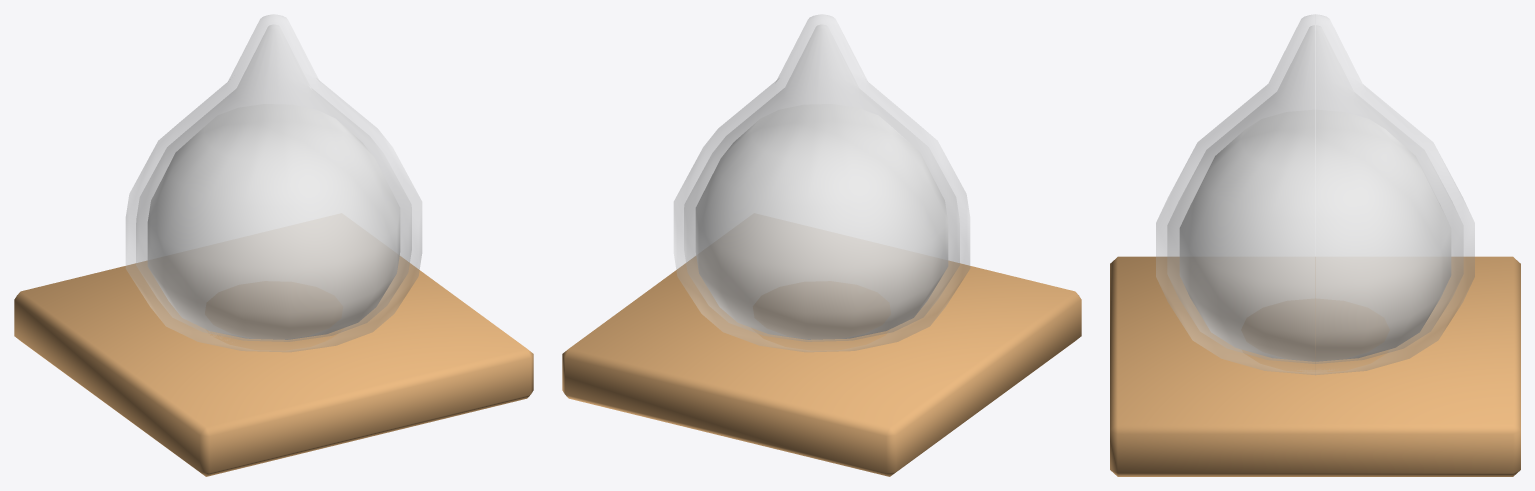
Rendered from storm-glass.glb.
3 renders of one model, left to right at view 1: azimuth 30°, elevation 25°; view 2: azimuth 150°, elevation 25°; view 3: azimuth 270°, elevation 25°, orthographic. The views are drawn at different scales.
Parts seen in each view (by area): view 1: Base, Glass, Liquid; view 2: Base, Glass, Liquid; view 3: Glass, Base, Liquid.
Boxes of the visible parts, left/top/right/bottom form: Base: left=14, top=256, right=533, bottom=476; Glass: left=126, top=14, right=421, bottom=351; Liquid: left=147, top=104, right=400, bottom=339; Base: left=562, top=256, right=1081, bottom=476; Glass: left=674, top=14, right=969, bottom=351; Liquid: left=695, top=104, right=948, bottom=339; Glass: left=1156, top=14, right=1474, bottom=374; Base: left=1110, top=256, right=1520, bottom=476; Liquid: left=1179, top=109, right=1451, bottom=361.
Size of the model in its own units: 0.105 by 0.107 by 0.105.
